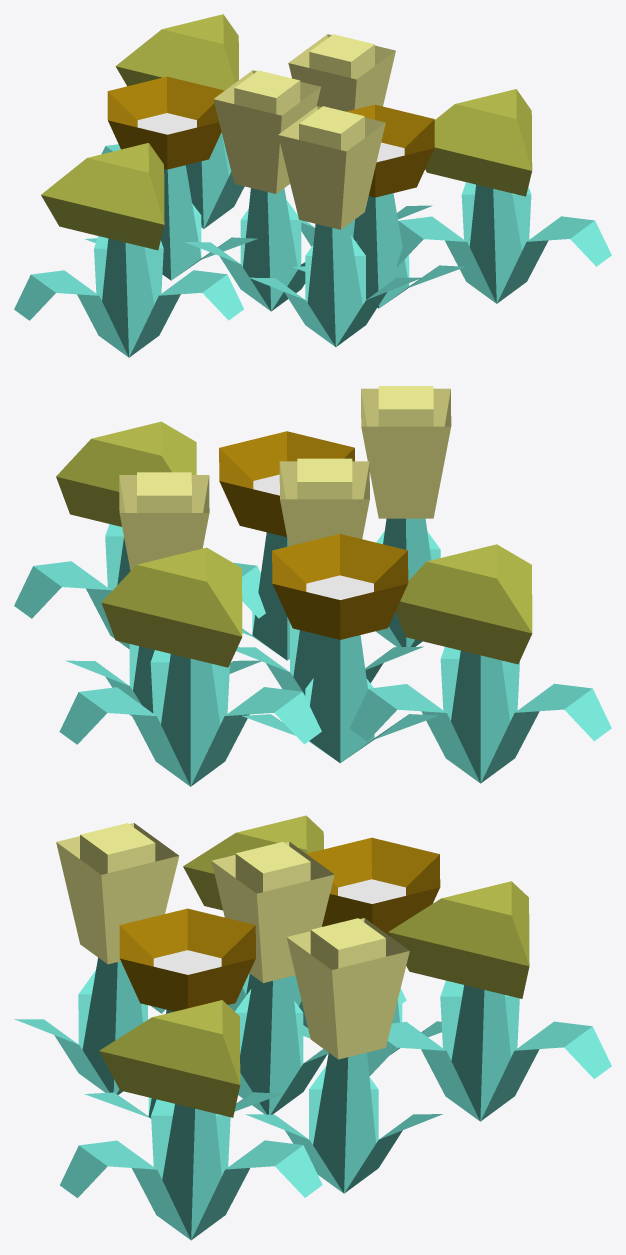
The model's file is floweryerrow02.fbx.
3 views of the same model, one above another, from view 1: azimuth 30°, elevation 25°; view 2: azimuth 150°, elevation 25°; view 3: azimuth 270°, elevation 25° (orthographic). The views are drawn at different scales.
Visible parts, largest first — view 1: flower_purpleB3; view 2: flower_purpleB3; view 3: flower_purpleB3.
Part boxes in pixels (x1=…): flower_purpleB3: x1=14, y1=14, x2=611, y2=357; flower_purpleB3: x1=14, y1=386, x2=611, y2=786; flower_purpleB3: x1=14, y1=815, x2=611, y2=1240.
Size of the model in its own units: 6.04 by 2.76 by 5.44.
